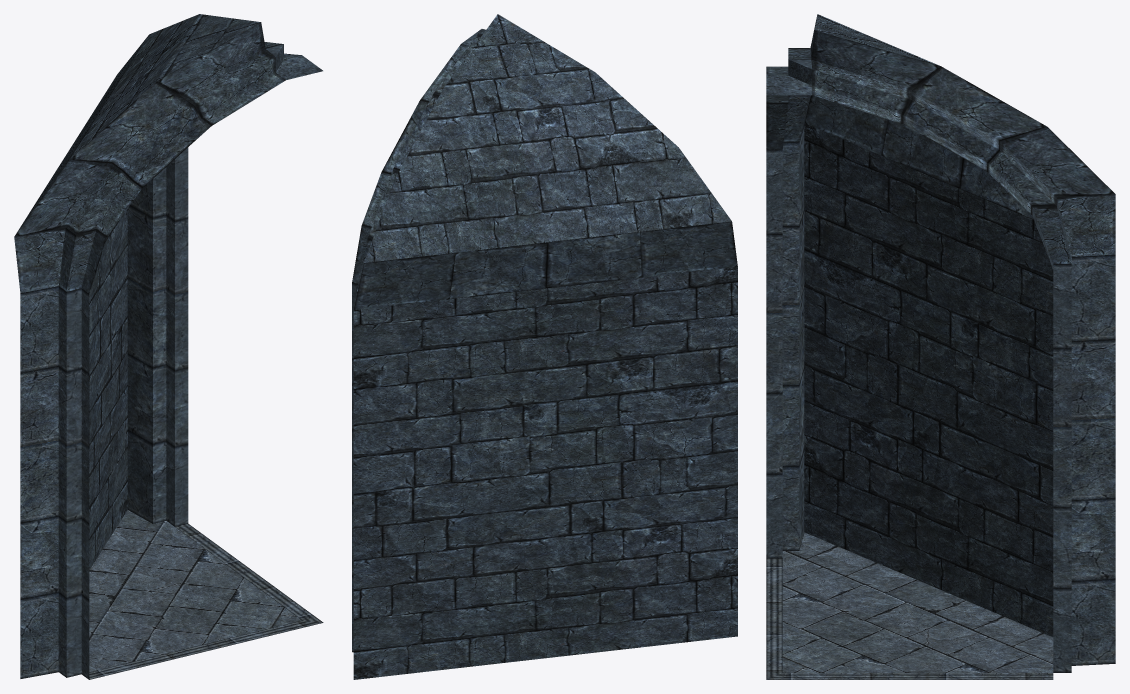
Rendered from wall_out_corner.FBX.
The picture shows the model from 3 angles, left to right: view 1: azimuth 30°, elevation 25°; view 2: azimuth 150°, elevation 25°; view 3: azimuth 270°, elevation 25°; orthographic projection. The views are drawn at different scales.
Parts seen in each view (by area): view 1: wall_Out_corner; view 2: wall_Out_corner; view 3: wall_Out_corner.
Part boxes in pixels (x1,y1,x2,y2): wall_Out_corner: (14,14,323,679); wall_Out_corner: (352,14,737,679); wall_Out_corner: (766,14,1115,679).
Bounding box in the file's own units: 38.05 × 75.6 × 38.05.
